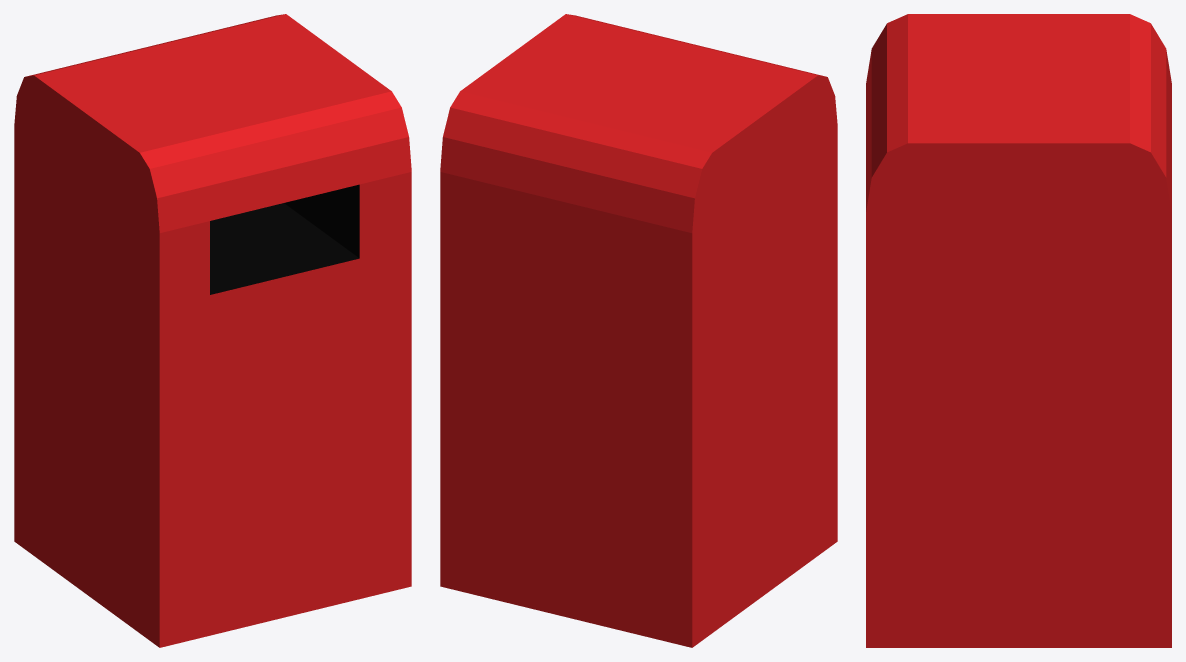
File: Postbox.fbx
3 renders of one model, left to right at view 1: azimuth 30°, elevation 25°; view 2: azimuth 150°, elevation 25°; view 3: azimuth 270°, elevation 25°, orthographic. The views are drawn at different scales.
Parts seen in each view (by area): view 1: Post Box; view 2: Post Box; view 3: Post Box.
Part boxes in pixels (box(x1,y1,x2,y2)): Post Box: box(14, 14, 411, 647); Post Box: box(440, 14, 837, 647); Post Box: box(866, 14, 1171, 647).
Bounding box in the file's own units: 110 × 200 × 110.
